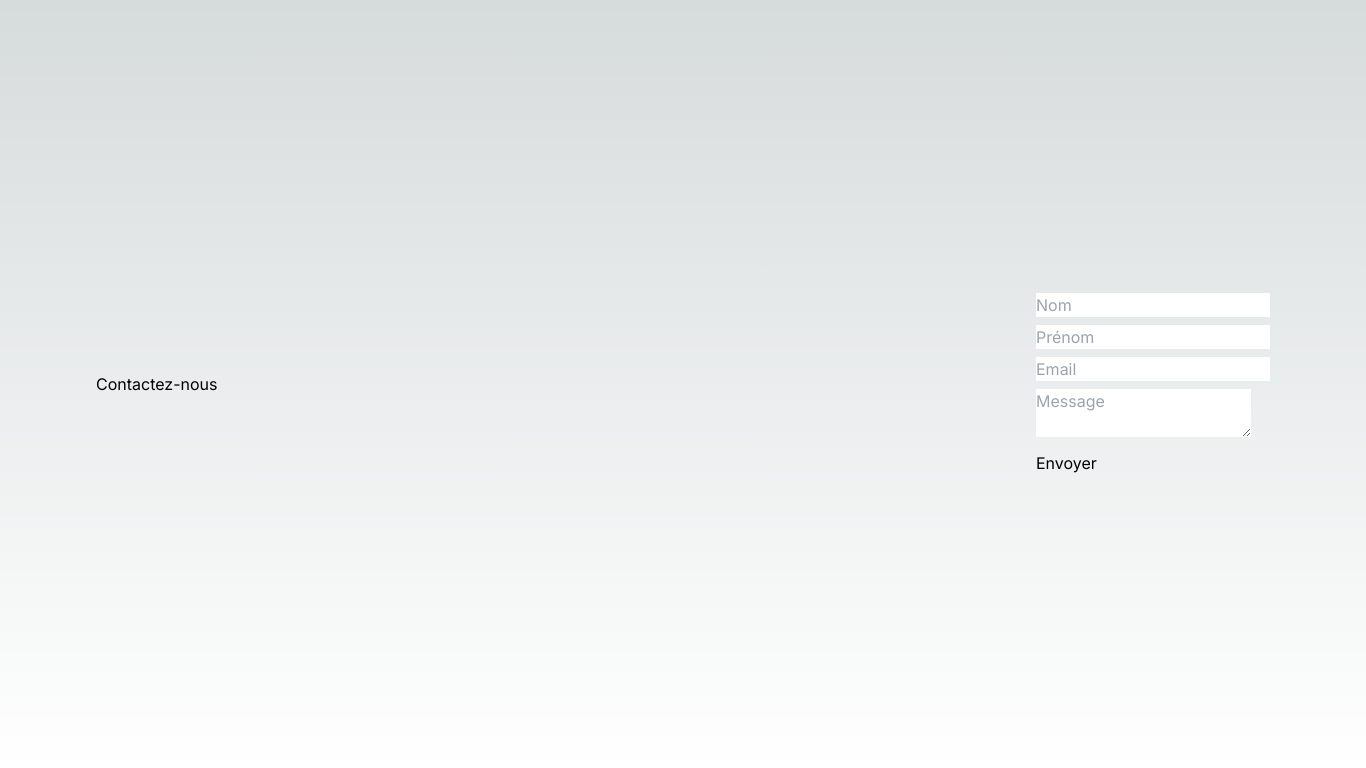
Scenario: Form chack › can submit a contact request
This screenshot has width=1366, height=768.
Type "Doe" into the field named "lastName" at (1153, 305), box 1036,293 -> 1270,317
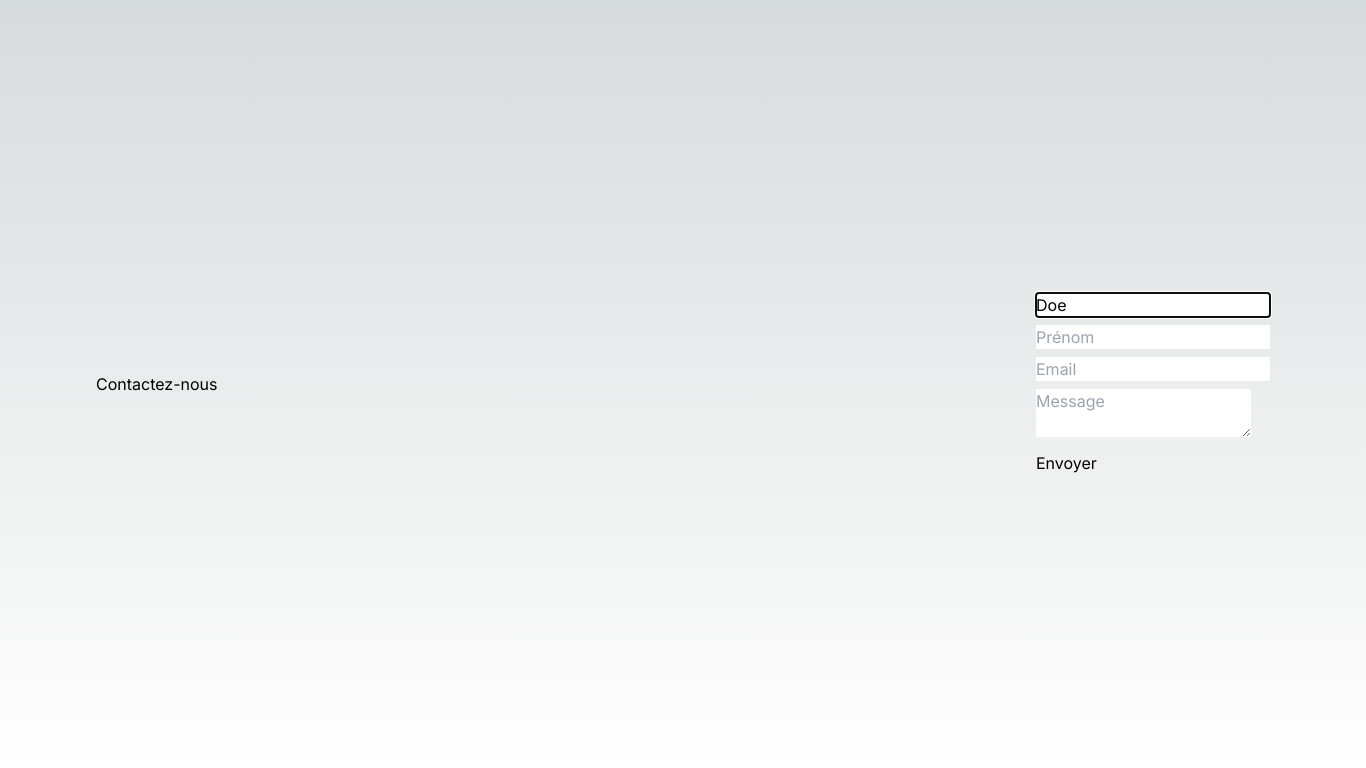
Type "John" into the field named "firstName" at (1153, 337), box 1036,325 -> 1270,349
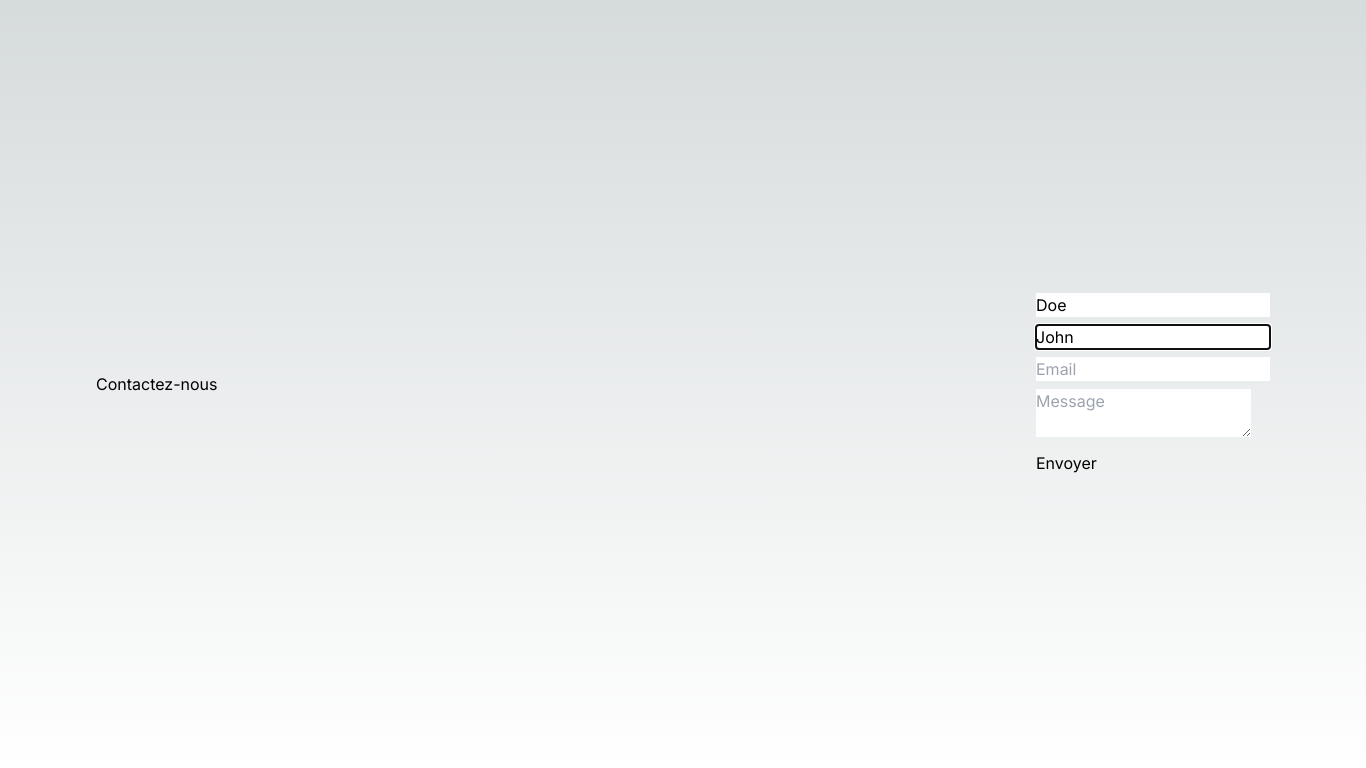
Type "john.doe@myges.fr" into the field named "email" at (1153, 369), box 1036,357 -> 1270,381
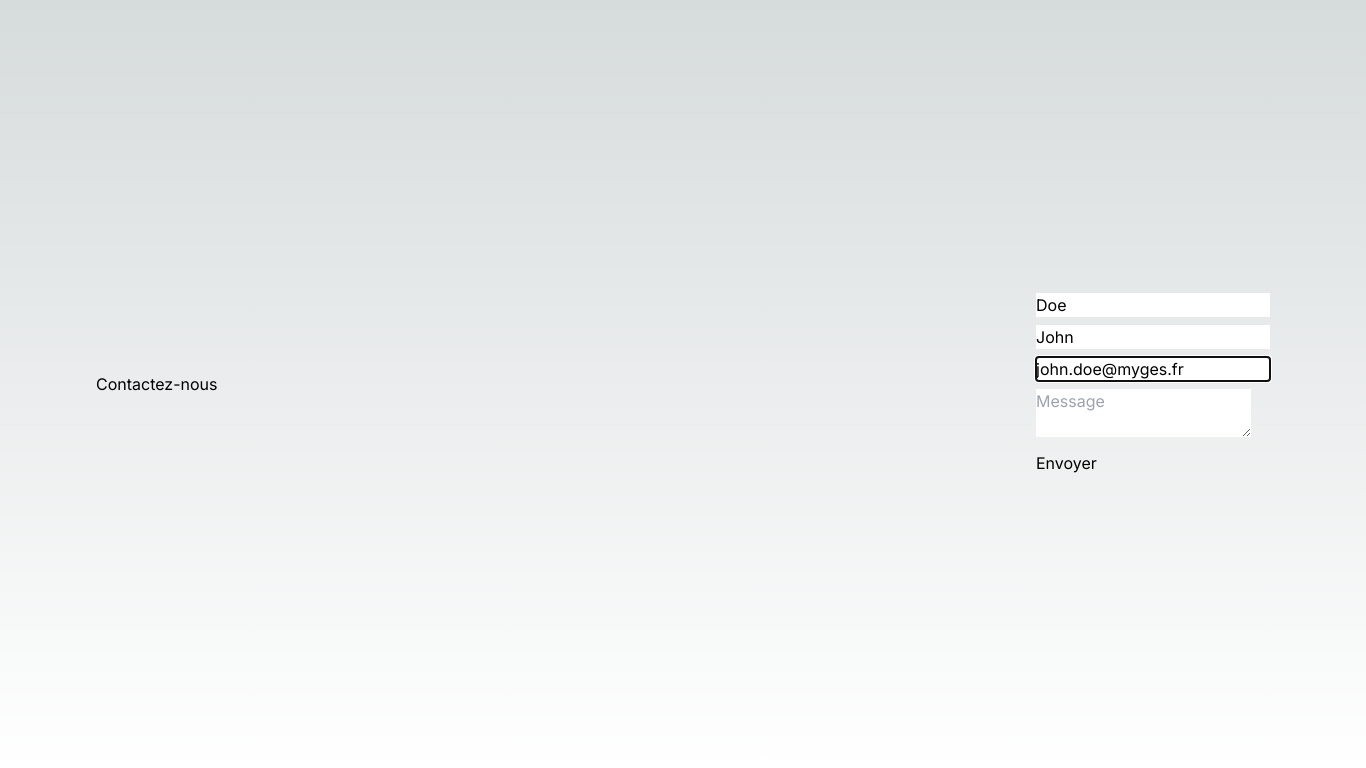
Type "Ici le message" into the text box named "message" at (1144, 413), box 1036,389 -> 1251,437
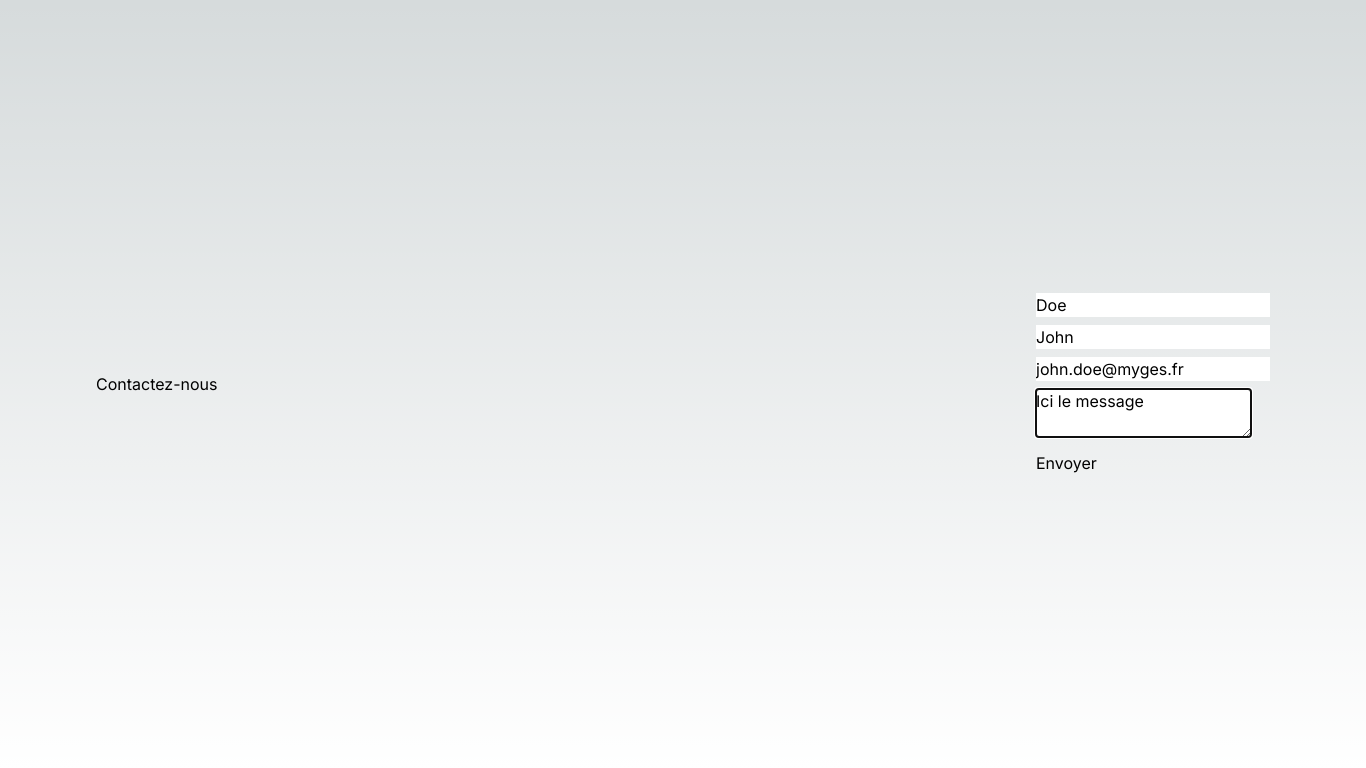
Click the submit button at (1067, 463), box 1036,451 -> 1097,475
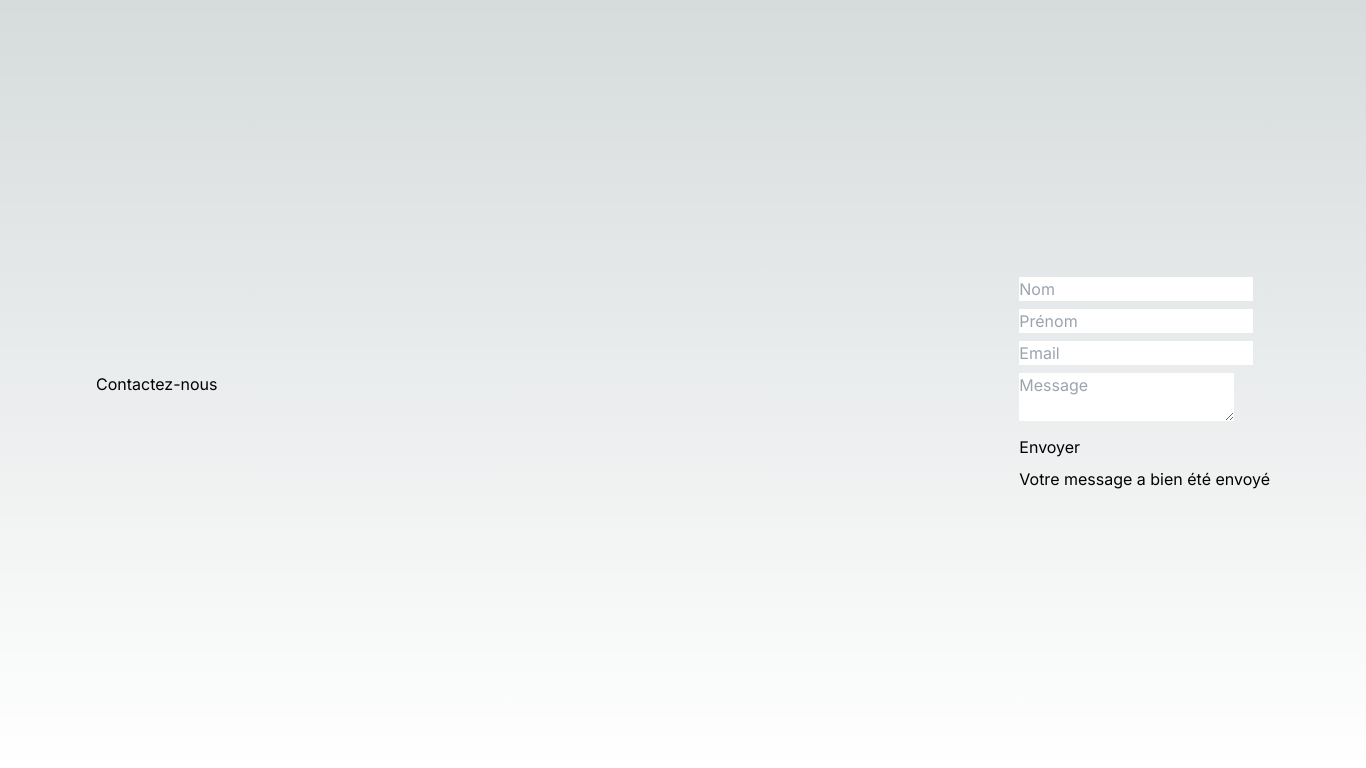
expect the text "Votre message a bien été envoyé" is shown: met, box 1019,467 -> 1270,491
